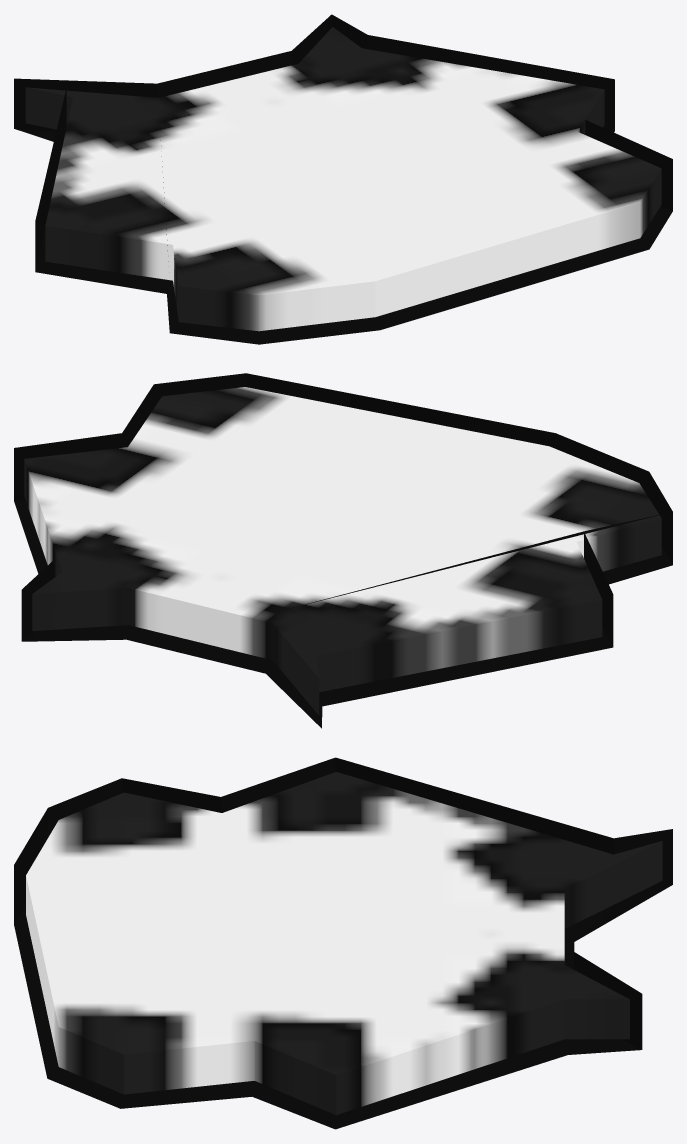
Rendered from Item_Apparel_FlakVest_Things_Pawn_Humanlike_Apparel_FlakVest_FlakVest_Hulk.glb.
3 renders of one model, top to bottom at view 1: azimuth 30°, elevation 25°; view 2: azimuth 150°, elevation 25°; view 3: azimuth 270°, elevation 25°, orthographic. The views are drawn at different scales.
Visible parts, largest first — view 1: Body, Outline; view 2: Body, Outline; view 3: Body, Outline.
Part boxes in pixels (x1,y1,x2,y2): Body: (25, 27, 661, 331); Outline: (14, 14, 672, 344); Body: (24, 387, 661, 715); Outline: (14, 373, 672, 728); Body: (26, 772, 662, 1115); Outline: (14, 757, 672, 1129).
Bounding box in the file's own units: 0.3564 × 0.0345 × 0.3154.
Materials: 2 (1 with a texture image).
